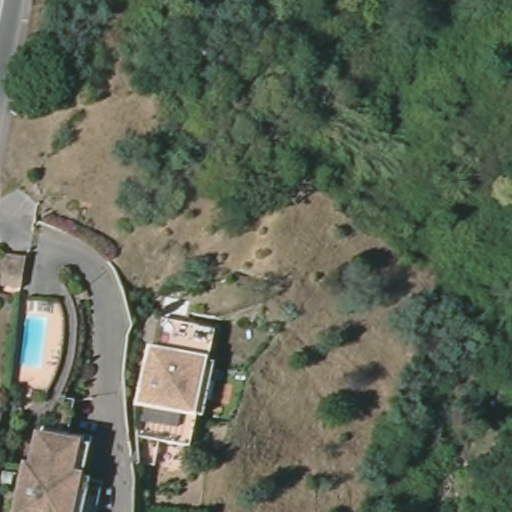pool: (18, 311, 48, 371)
